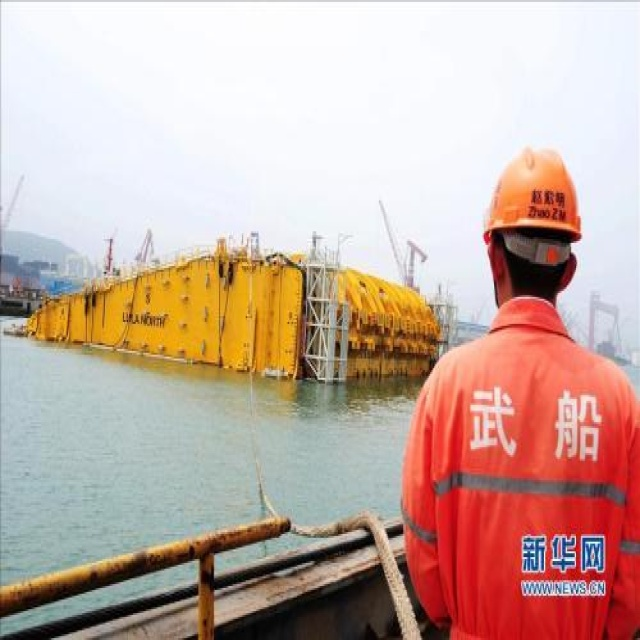Helmet: (461, 134, 590, 312)
Reflective vest: (403, 321, 634, 640)
